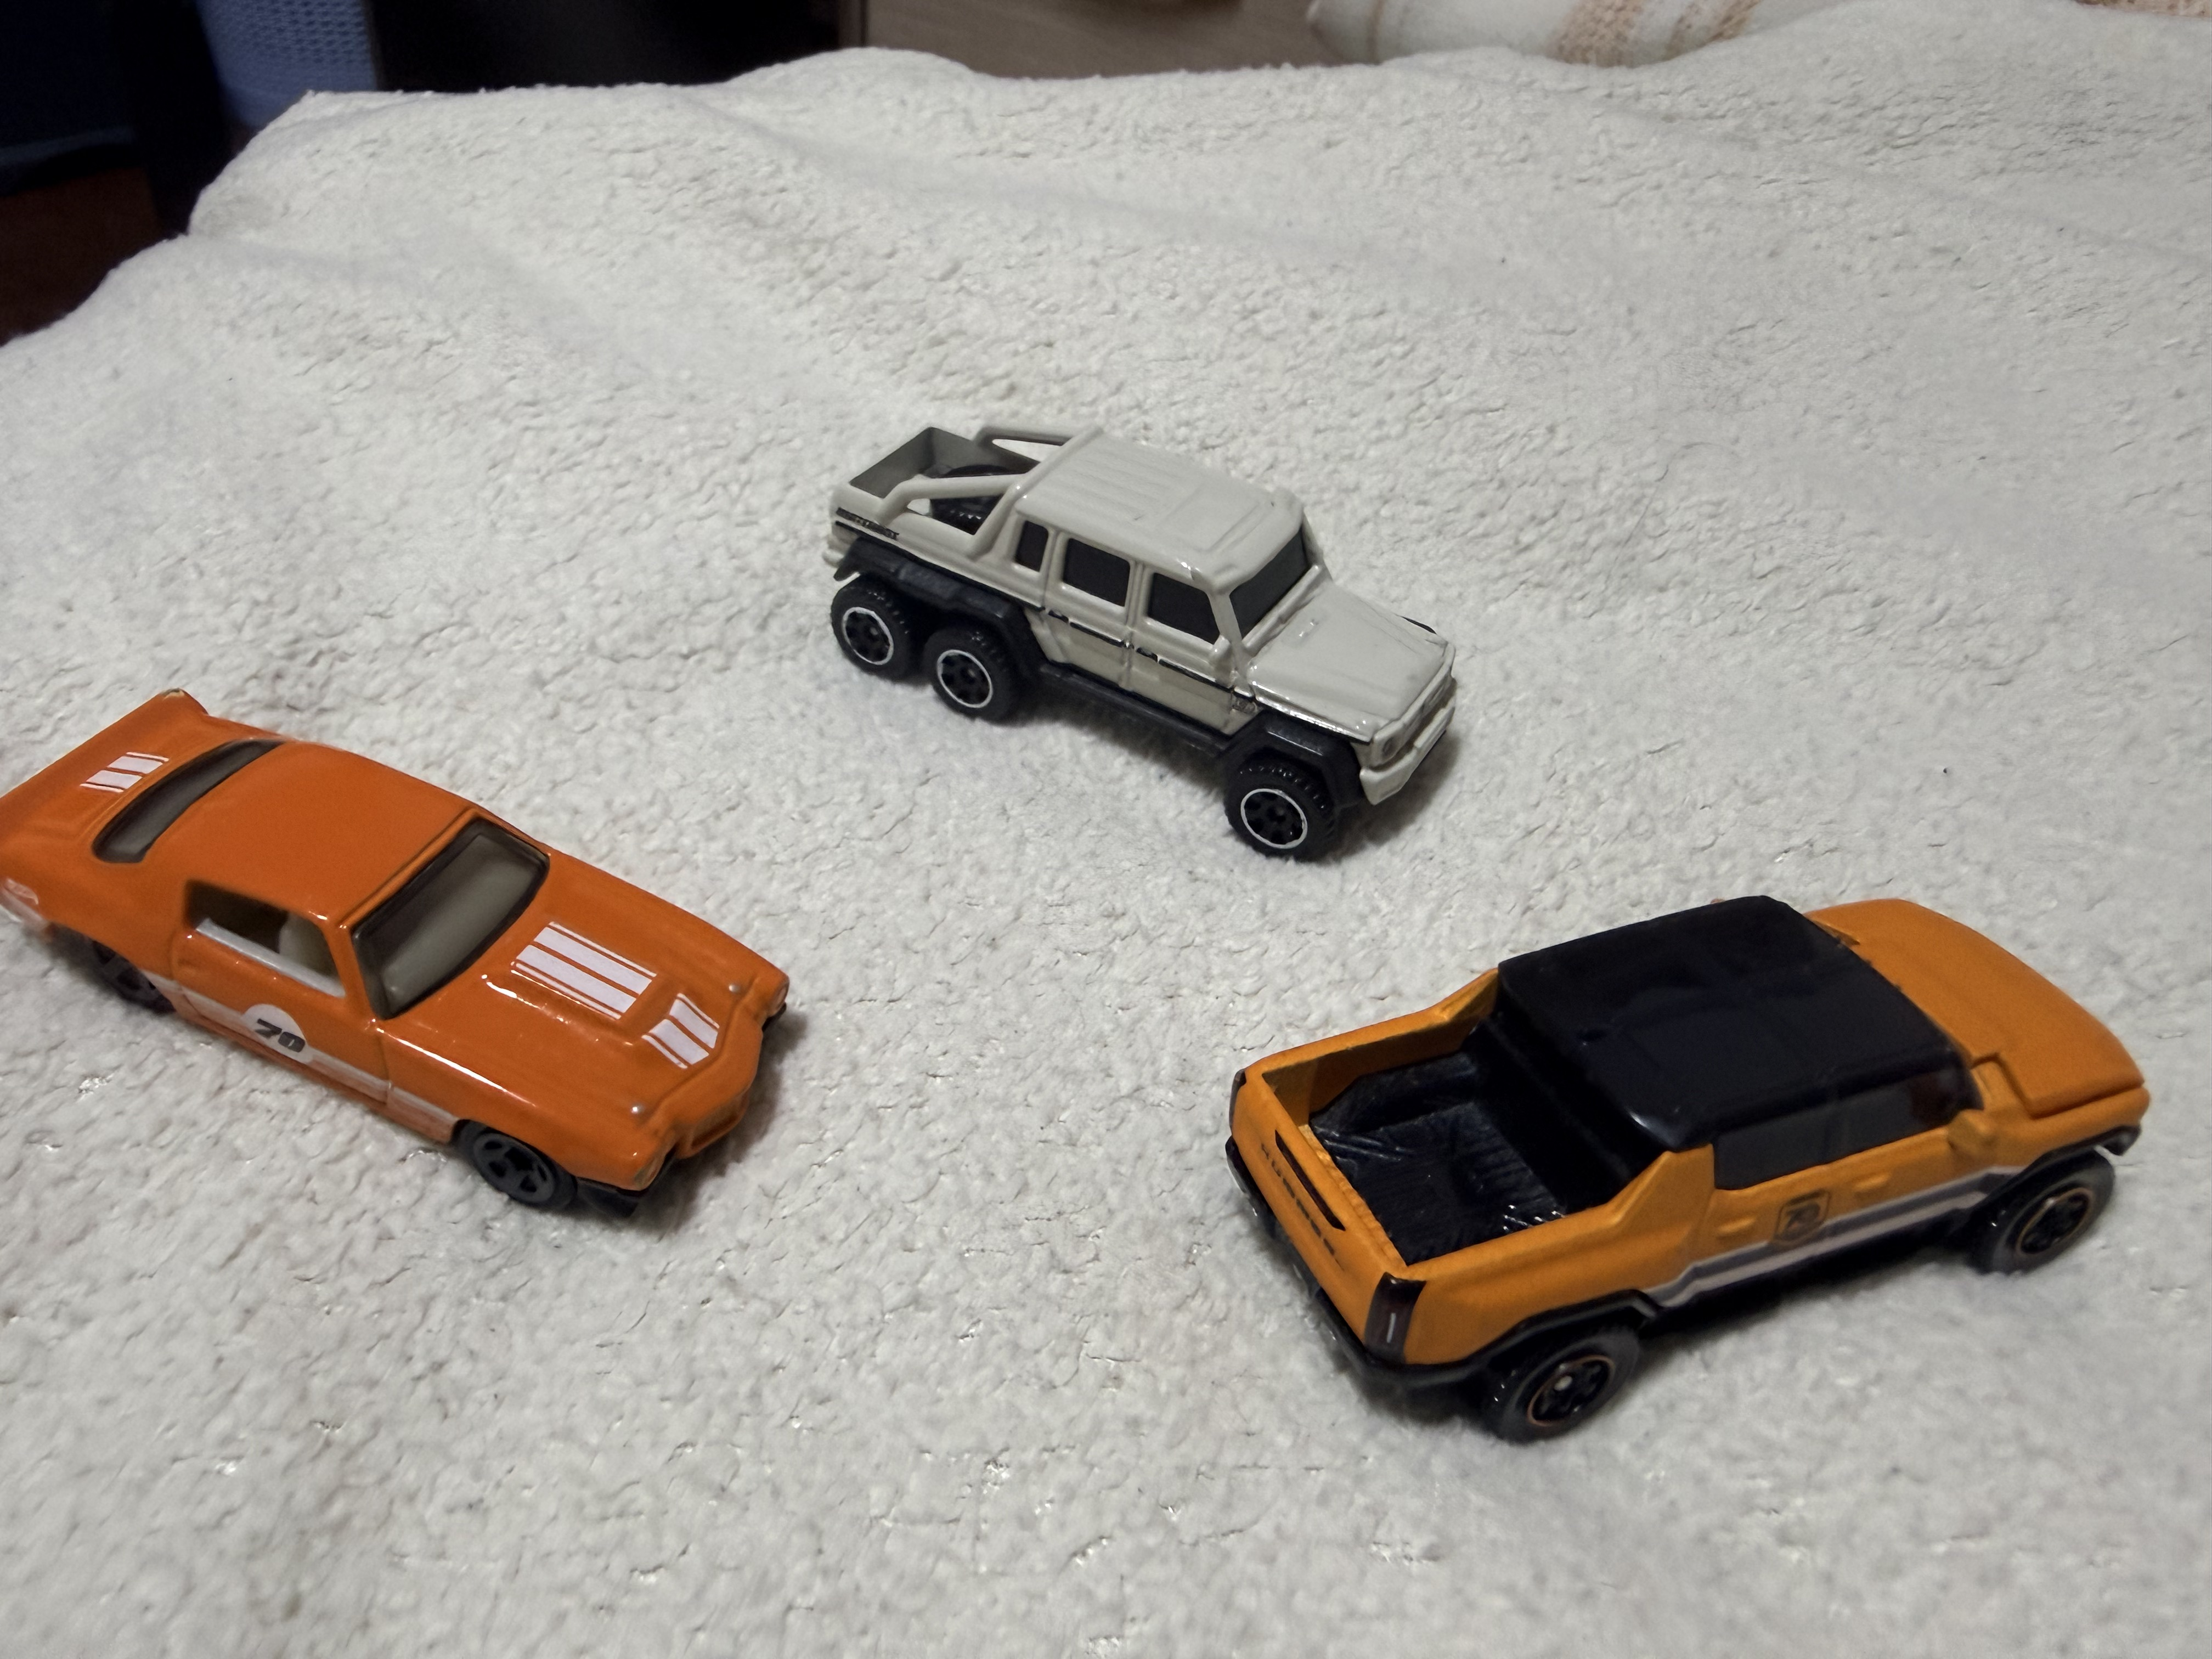camaro_rs: (0, 687, 791, 1216)
gmc_hummer: (1226, 894, 2151, 1443)
mercedes_benz: (824, 418, 1460, 861)
